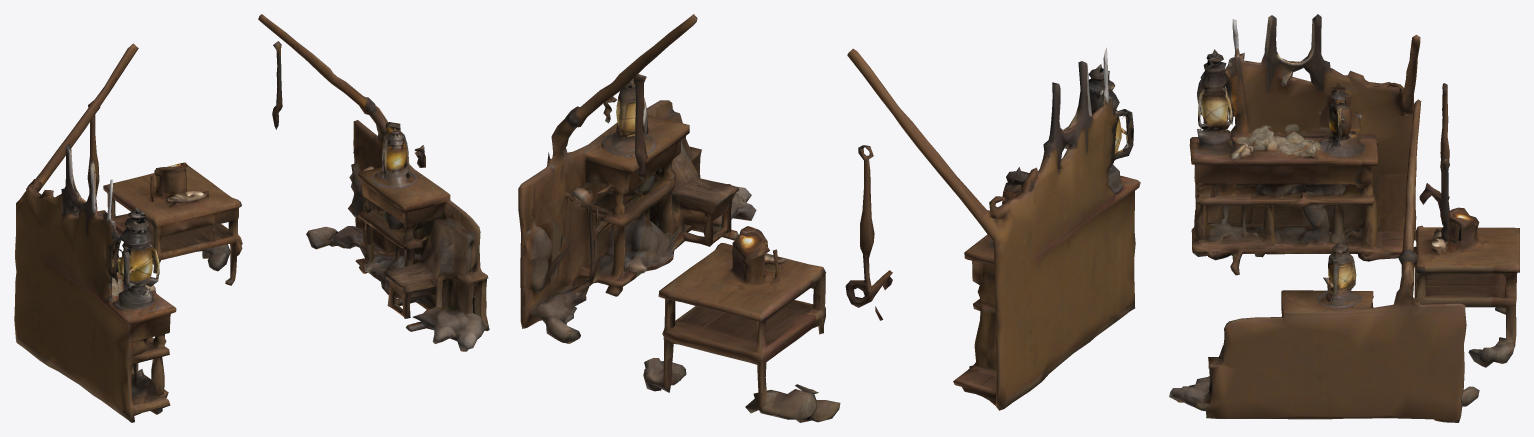
Rendered from DecoCuarto.fbx.
The picture shows the model from 3 angles, left to right: view 1: azimuth 30°, elevation 25°; view 2: azimuth 150°, elevation 25°; view 3: azimuth 270°, elevation 25°; orthographic projection. The views are drawn at different scales.
Parts seen in each view (by area): view 1: input; view 2: input; view 3: input.
Part boxes in pixels (box(x1,y1,x2,y2)): input: box(14, 14, 489, 422); input: box(518, 14, 1140, 422); input: box(1169, 14, 1519, 422).
Size of the model in its own units: 200 by 144 by 167.
1 material, 1 textured.
